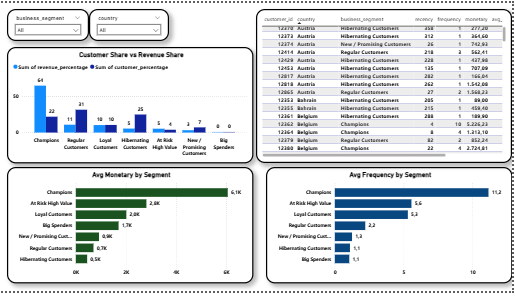

This screenshot's page, from the dashboard's own definition file:
{"tool":"powerbi","page":{"name":"Segment Deep Dive","canvas":[1280,720],"ordinal":1},"visuals":[{"type":"slicer","fields":{"Values":["public customer_business_segments.business_segment"]},"box":[17.5,15,205,80],"z":0},{"type":"slicer","fields":{"Values":["public customer_business_segments.country"]},"box":[222.5,15,200,80],"z":1},{"type":"clusteredColumnChart","title":"Customer Share vs Revenue Share","fields":{"Category":["public vw_segment_summary.business_segment"],"Y":["Sum(public vw_segment_summary.revenue_share_pct)","Sum(public vw_segment_summary.customer_share_pct)"]},"box":[17.5,108.8,616.2,291.2],"z":2},{"type":"clusteredBarChart","title":"Avg Monetary by Segment","fields":{"Category":["public vw_segment_summary.business_segment"],"Y":["Sum(public vw_segment_summary.avg_monetary)"]},"box":[17.5,410,616.2,291.2],"z":3},{"type":"clusteredBarChart","title":"Avg Frequency by Segment","fields":{"Category":["public vw_segment_summary.business_segment"],"Y":["Sum(public vw_segment_summary.avg_frequency)"]},"box":[663.8,410,616.2,291.2],"z":4},{"type":"tableEx","fields":{"Values":["public customer_business_segments.customer_id","public customer_business_segments.country","public customer_business_segments.business_segment","public customer_business_segments.recency","public customer_business_segments.frequency","public customer_business_segments.monetary","public customer_business_segments.avg_order_value","public customer_business_segments.unique_products"]},"box":[640,15,640,385],"z":5}]}

Visuals, with their boxes in screenshot pixels (x1, y1, x2, y2), scaled from the page's 1280x720 canvas onto the 515x296 screenshot:
slicer - public customer_business_segments.business_segment: Rect(7, 6, 90, 39)
slicer - public customer_business_segments.country: Rect(90, 6, 170, 39)
"Customer Share vs Revenue Share" clusteredColumnChart: Rect(7, 45, 255, 164)
"Avg Monetary by Segment" clusteredBarChart: Rect(7, 169, 255, 288)
"Avg Frequency by Segment" clusteredBarChart: Rect(267, 169, 514, 288)
tableEx - public customer_business_segments.customer_id x public customer_business_segments.country: Rect(258, 6, 514, 164)
